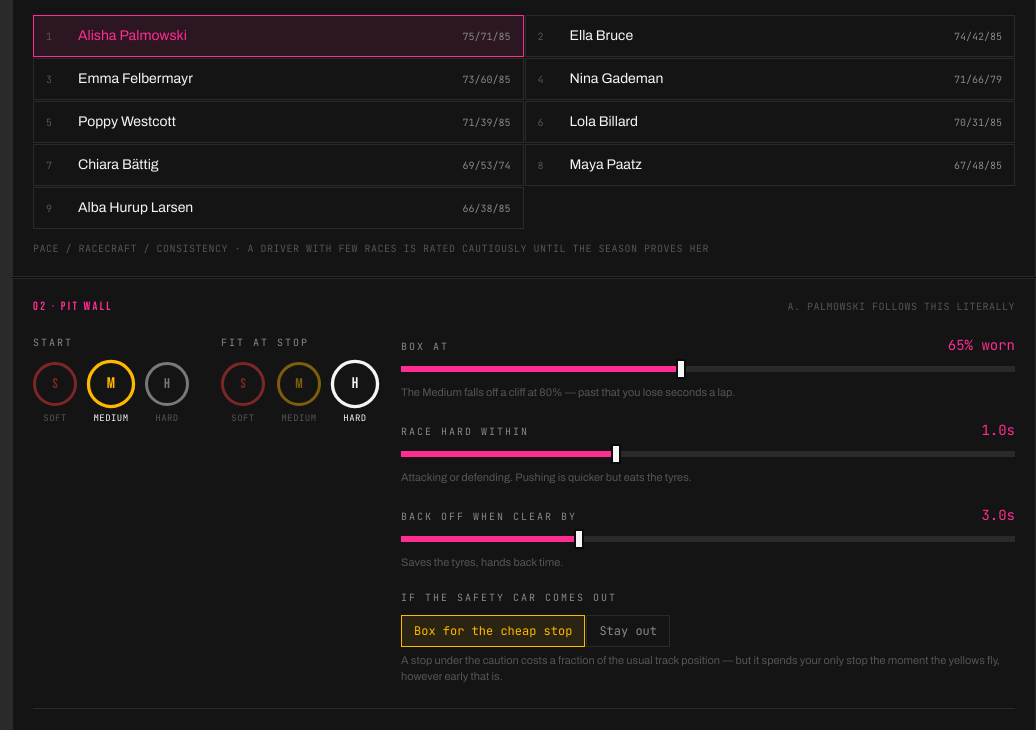
QuickRace — the pit wall › warns when the tyre the player FINISHES on will not last
This screenshot has width=1036, height=730.
Click the button "S Soft" below "Fit at stop".
click(243, 394)  # box [221,362,265,426]
(page scrolled)
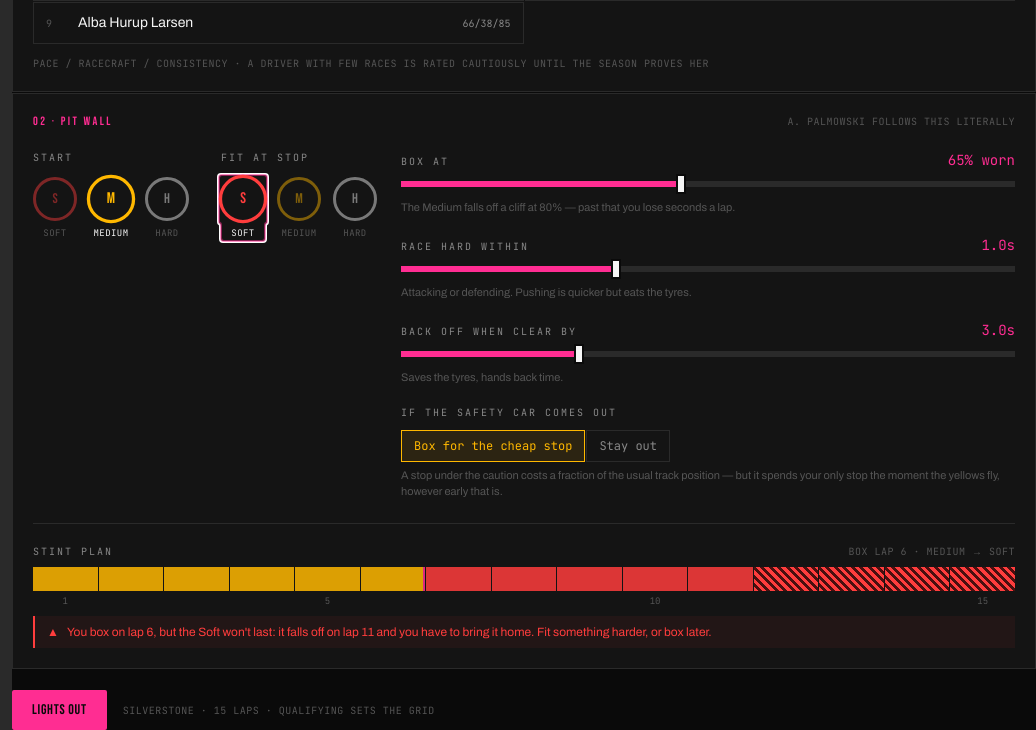
Now the text "bring it home" is shown, box [67,625,712,639]
